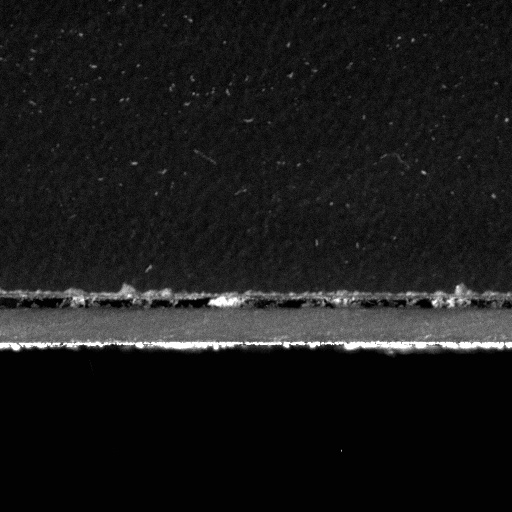jiaofeng: (89, 294, 213, 311), (0, 288, 67, 315), (351, 293, 440, 312), (251, 295, 334, 312), (469, 294, 511, 312)
